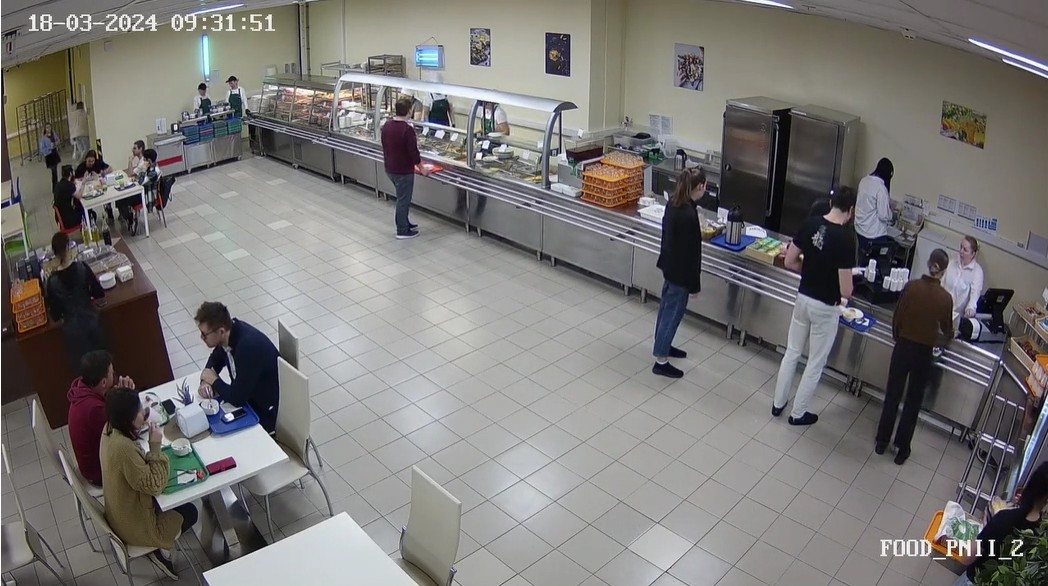Na_Kasse: (709, 178, 880, 425), (809, 236, 980, 461)
Ne_v_Ocheredi: (21, 229, 153, 351), (64, 93, 97, 150), (33, 114, 63, 164)
Personal: (859, 155, 907, 259), (949, 229, 988, 307), (469, 90, 513, 142), (218, 69, 252, 130), (184, 71, 220, 128), (428, 74, 457, 133)
Vybiraet: (649, 153, 715, 388), (378, 91, 428, 238)
Za_Stolom: (14, 343, 133, 489), (190, 290, 293, 439), (101, 388, 172, 552), (49, 164, 83, 231), (67, 145, 115, 182), (139, 148, 169, 201), (128, 134, 148, 174)
